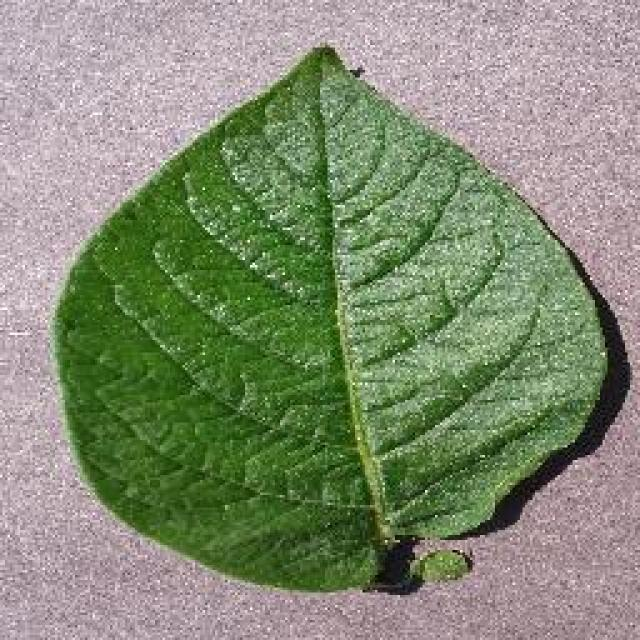healthy: (45, 40, 617, 598)
